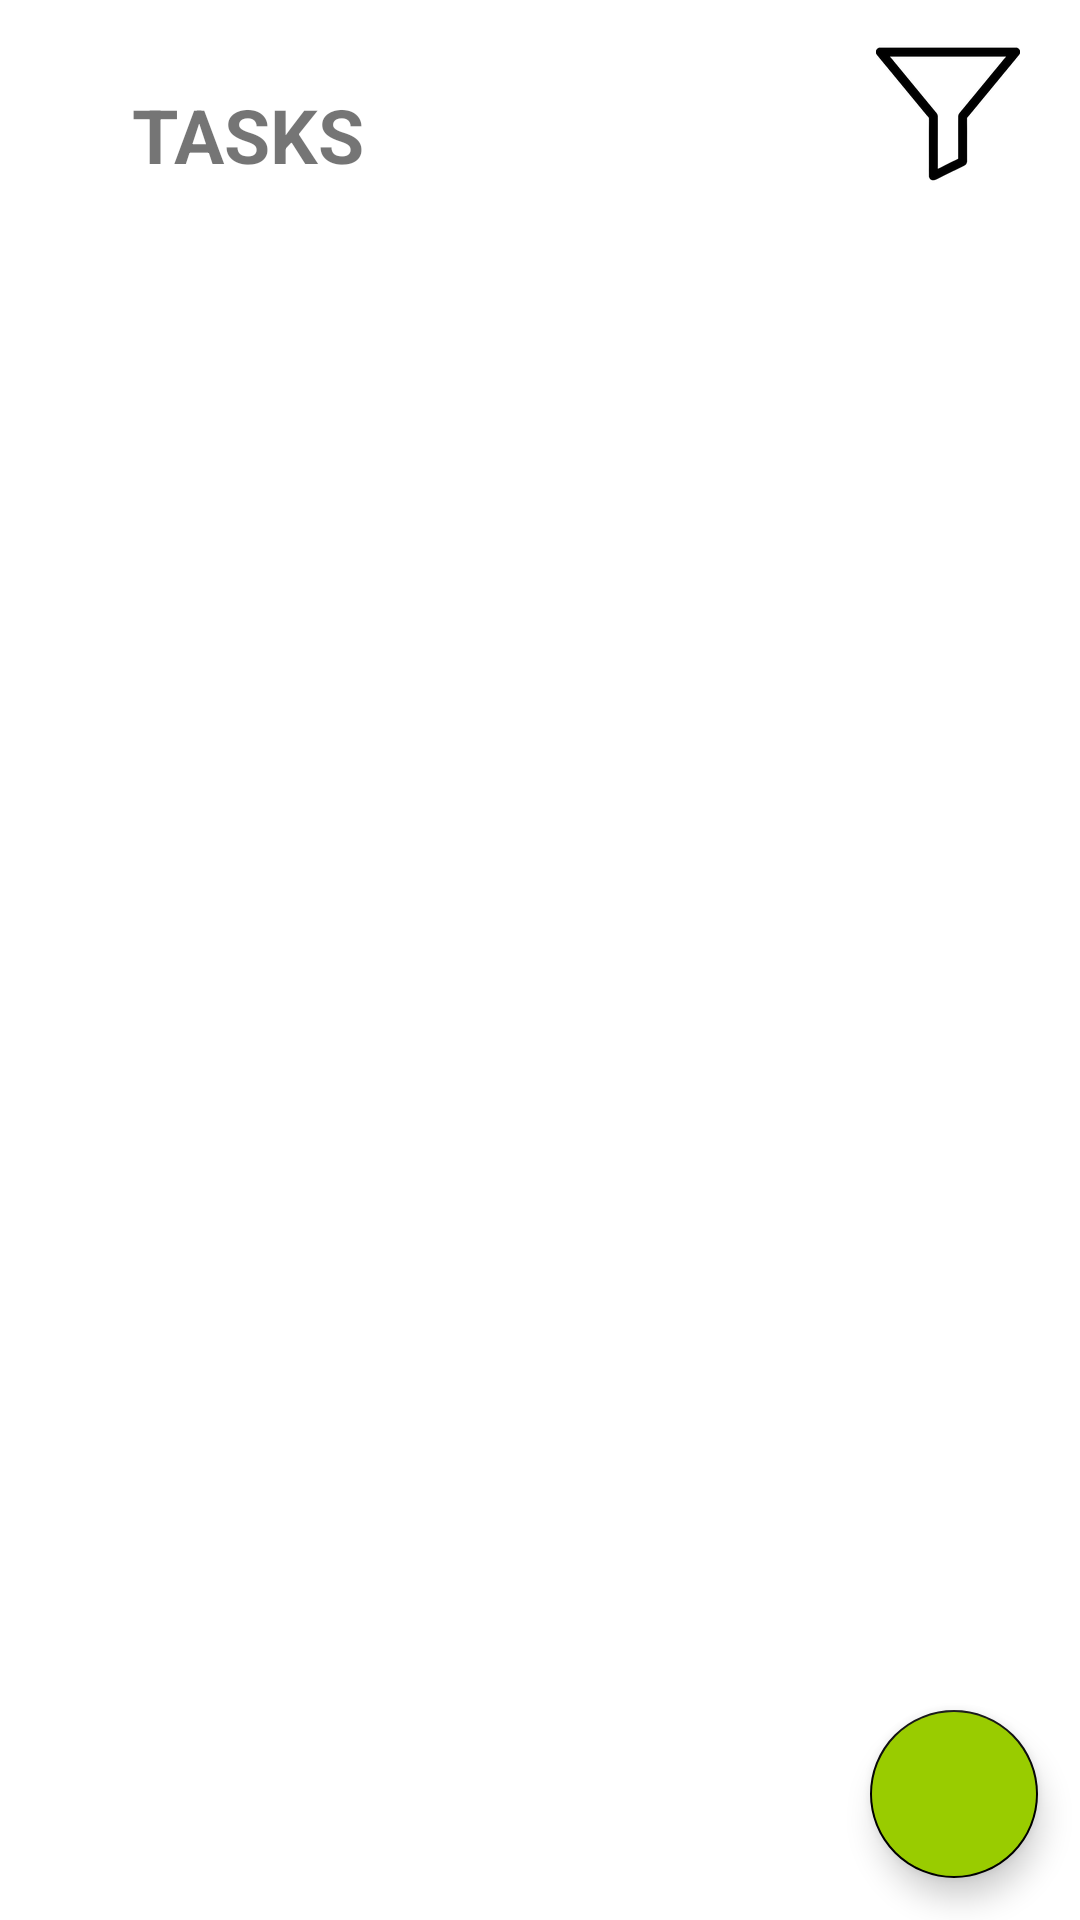

Screen size 1080px x 1920px. Icon name, then its box in pixels as (x1, y1, x2, y2):
filter: (876, 47, 1020, 181)
